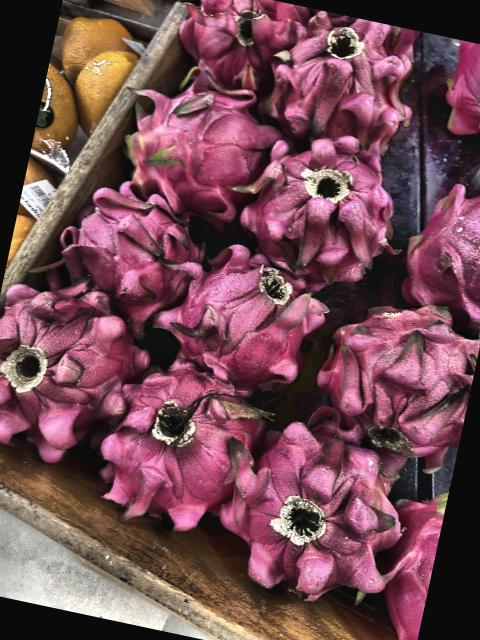buah-naga-matang: (214, 391, 416, 629), (84, 347, 268, 550), (306, 281, 480, 469), (0, 277, 150, 481), (93, 60, 275, 223), (237, 126, 402, 304), (159, 234, 326, 409), (245, 7, 430, 159), (52, 175, 204, 338), (390, 149, 480, 309), (169, 0, 293, 90)
